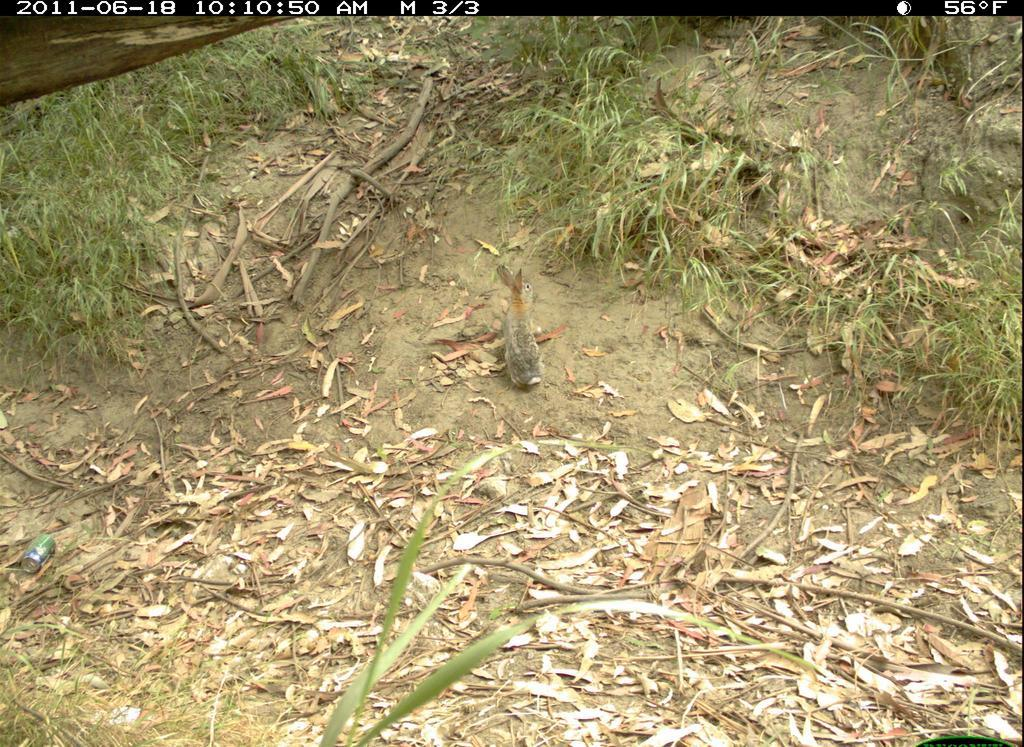rabbit: (486, 260, 565, 402)
